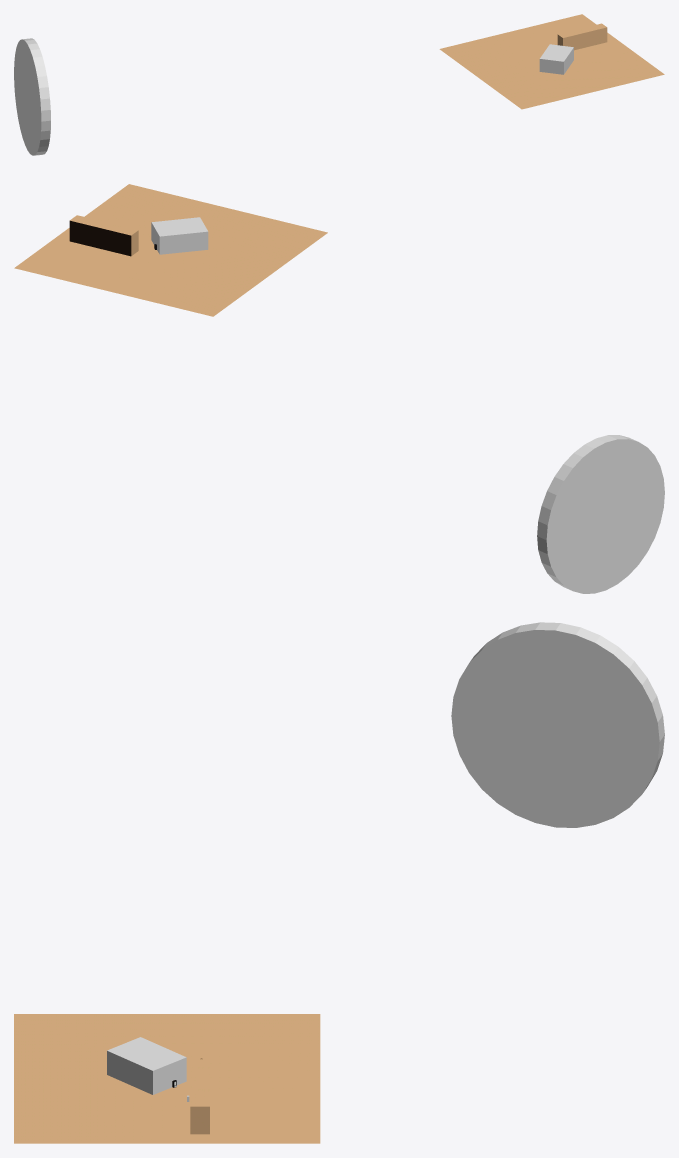
Rendered from Home-transformed.glb.
The picture shows the model from 3 angles, top to bottom: view 1: azimuth 30°, elevation 25°; view 2: azimuth 150°, elevation 25°; view 3: azimuth 270°, elevation 25°; orthographic projection. The views are drawn at different scales.
Visible parts, largest first — view 1: Plane, Circle.008; view 2: Plane, Circle.008, Cube; view 3: Circle.008, Plane.
Part boxes in pixels (<box>): Plane: <box>439,14,664,109</box>; Circle.008: <box>14,38,573,155</box>; Plane: <box>14,184,327,316</box>; Circle.008: <box>151,217,664,593</box>; Cube: <box>69,220,156,256</box>; Circle.008: <box>107,622,664,1101</box>; Plane: <box>14,1014,320,1143</box>.
Size of the model in its own units: 653 by 131 by 394.
Materials: 9 (9 with a texture image).
